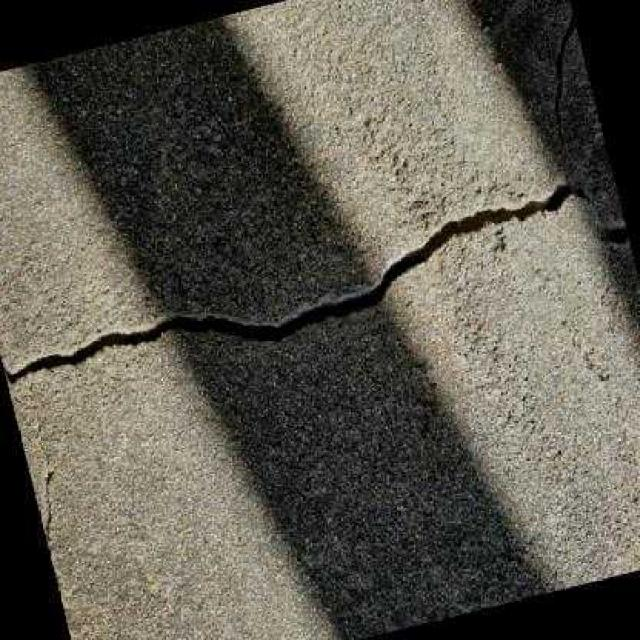D00: (0, 183, 588, 384), (554, 2, 575, 177)
